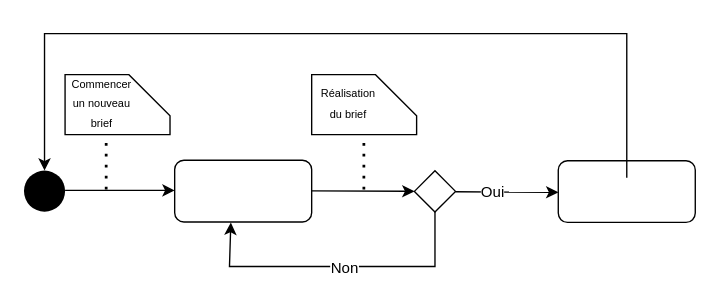
The diagram is 719 pixels wide and 301 high, and some of its shapes have lost their labels. Here are the shapes that lost their labels. From the top down, the centre of each, then its label:
[242,190]: Brief
[626,190]: Brief Validé
